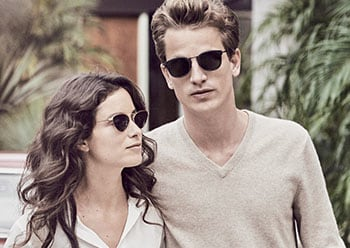sunglasses: (153, 52, 256, 76), (82, 108, 155, 129)
